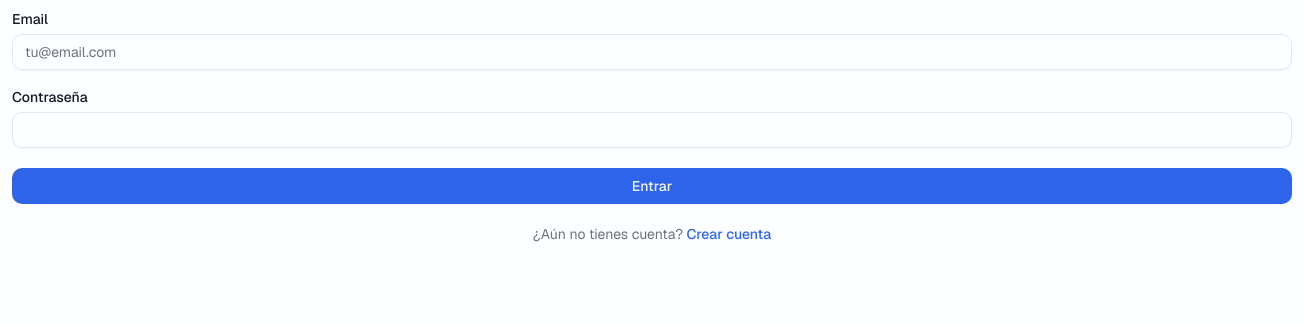
LoginForm › Credenciales incorrectas muestra un error generico sin revelar el campo fallido
The width and height of the screenshot is (1304, 325).
Type "ana@loop.test" into the field labelled "Email".
click(652, 52); type("ana@loop.test")  # box 12,34 -> 1292,70
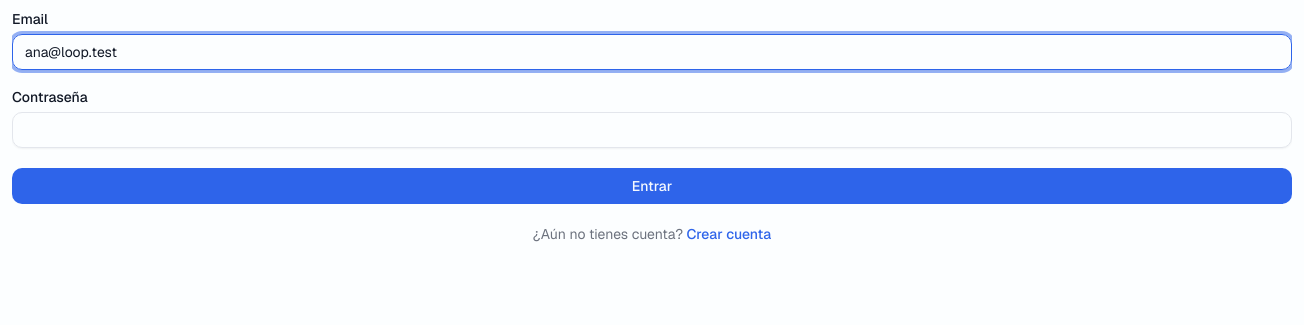
Type "loopmarket123" into the password field labelled "Contraseña".
click(652, 130); type("loopmarket123")  # box 12,112 -> 1292,148
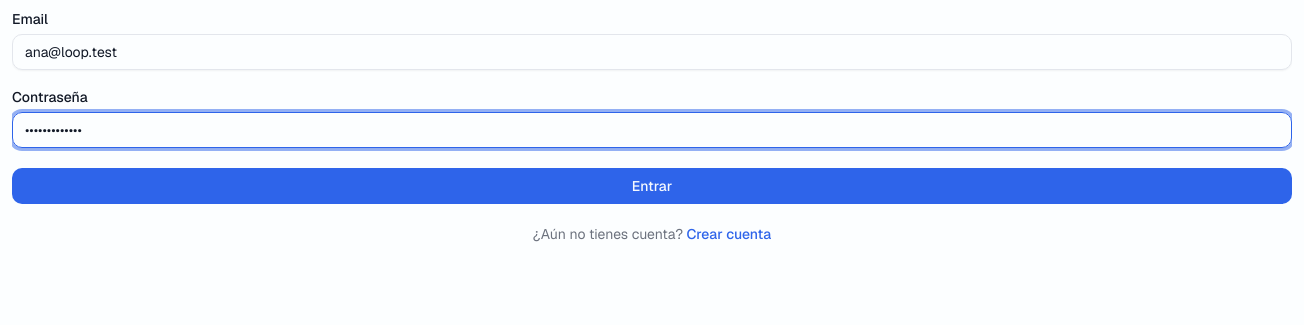
Click the button "Entrar".
click(652, 186)  # box 12,168 -> 1292,204
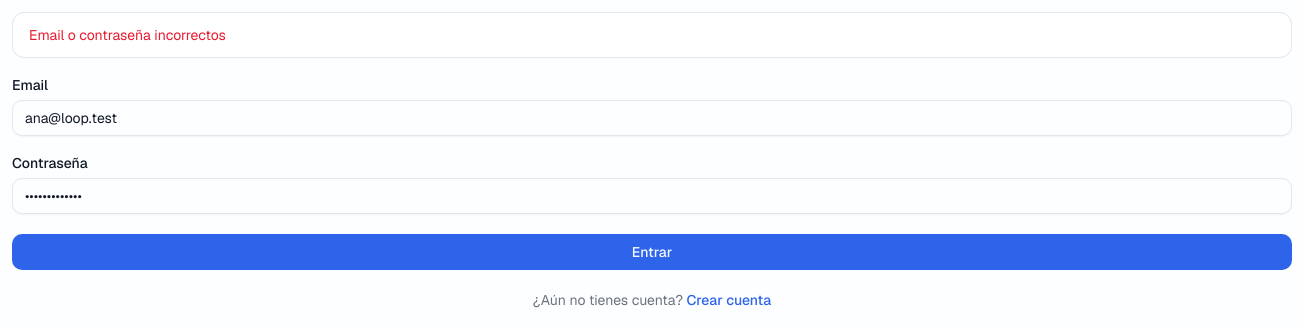
Expected: the message reads "Email o contraseña incorrectos", 29,26 -> 226,44
